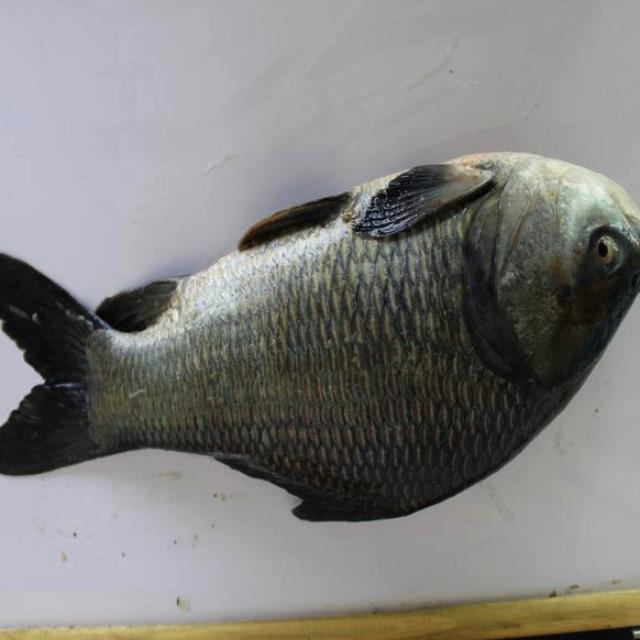Catla: (0, 153, 640, 521)
